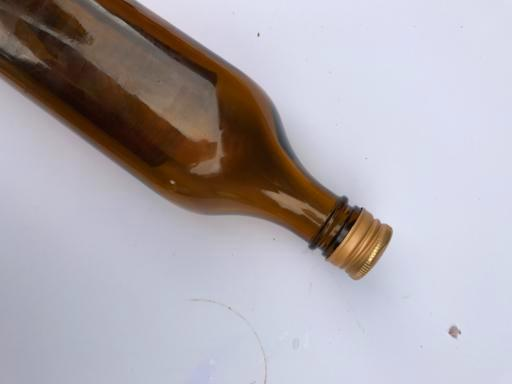glass: (1, 0, 394, 281)
sodocalcique: (1, 0, 394, 281)
